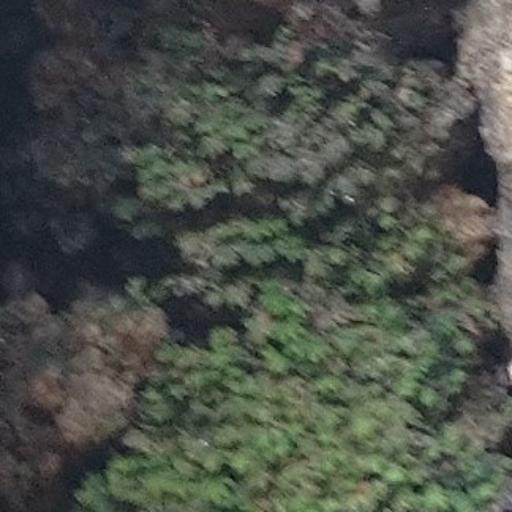algae: (81, 75, 512, 512)
